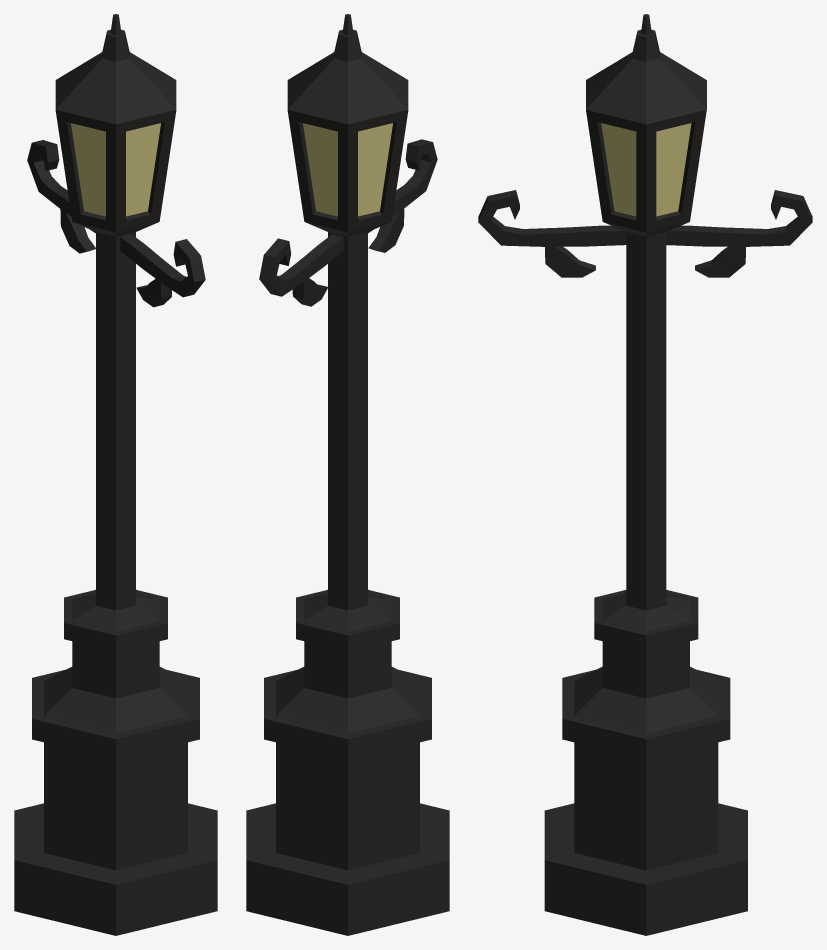
File: Poste.fbx
3 renders of one model, left to right at view 1: azimuth 30°, elevation 25°; view 2: azimuth 150°, elevation 25°; view 3: azimuth 270°, elevation 25°, orthographic.
Visible parts, largest first — view 1: Cube.086; view 2: Cube.086; view 3: Cube.086.
Part boxes in pixels (left/top/right/bottom): Cube.086: left=14, top=14, right=217, bottom=935; Cube.086: left=246, top=14, right=449, bottom=935; Cube.086: left=478, top=14, right=812, bottom=935.
Bounding box in the file's own units: 71.95 × 295 × 103.
